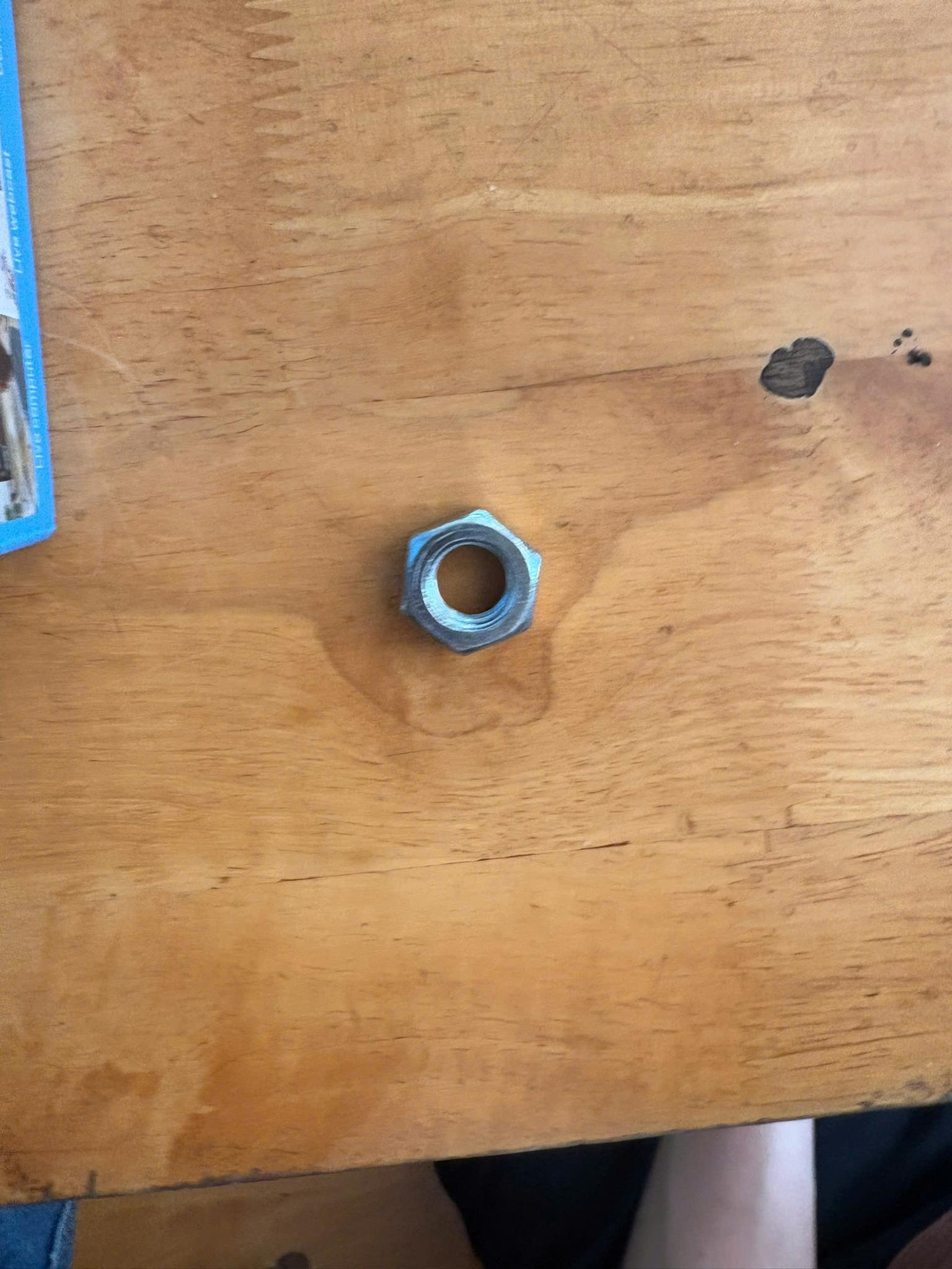nut: (387, 479, 569, 672)
